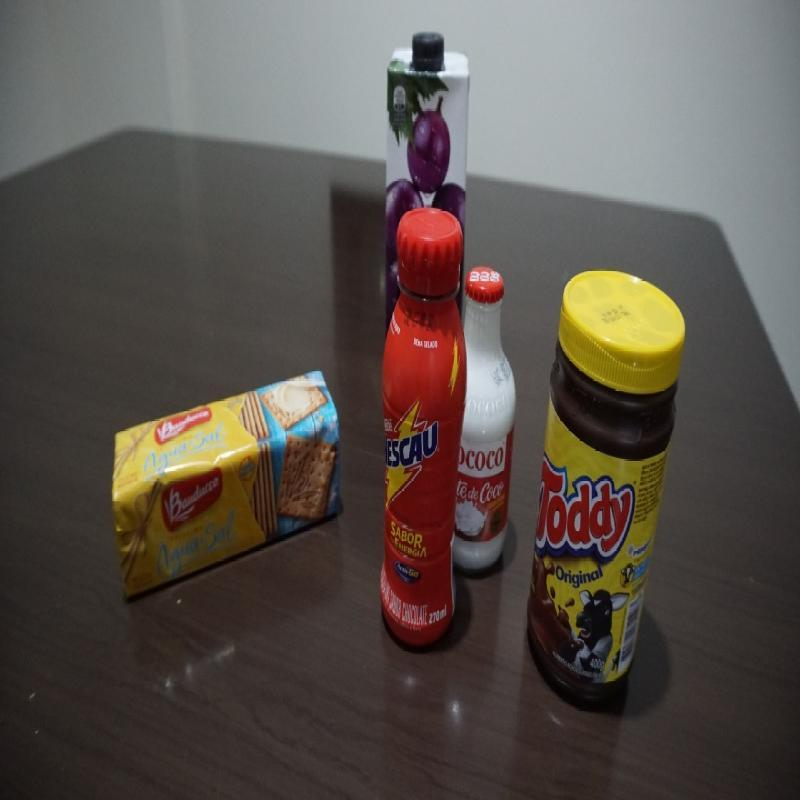Chocolate Milk: (378, 206, 468, 654)
Chocolate Powder: (527, 265, 690, 714)
Coconut Milk: (450, 263, 519, 575)
Cracker: (107, 367, 345, 606)
